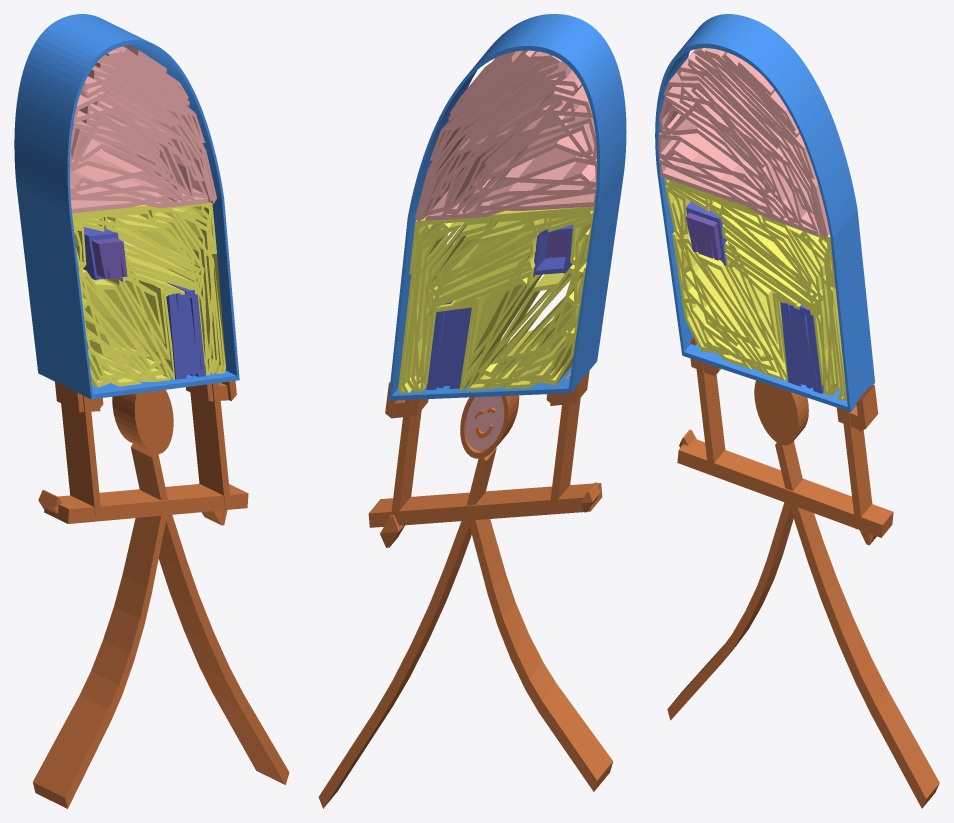
3 renders of one model, left to right at view 1: azimuth 30°, elevation 25°; view 2: azimuth 150°, elevation 25°; view 3: azimuth 330°, elevation 25°, orthographic. The views are drawn at different scales.
Visible parts, largest first — view 1: 1; view 2: 1; view 3: 1.
Part boxes in pixels (left/top/right/bottom): 1: left=14, top=14, right=289, bottom=808; 1: left=318, top=14, right=626, bottom=808; 1: left=655, top=14, right=939, bottom=808.
Size of the model in its own units: 0.3259 by 0.9282 by 0.1265.
